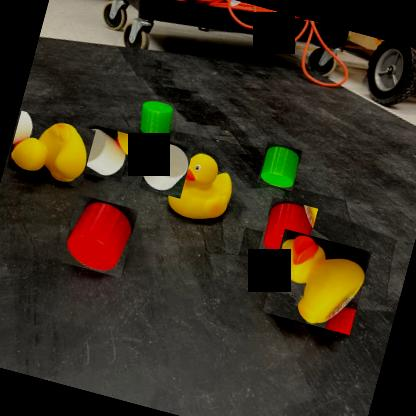duck: (262, 229, 372, 335), (5, 110, 96, 188), (162, 146, 241, 229)
green cylinder: (256, 141, 302, 191), (134, 96, 178, 141)
red cylinder: (60, 194, 138, 278), (258, 196, 318, 262)
white cylinder: (68, 121, 132, 182), (139, 136, 194, 198)
